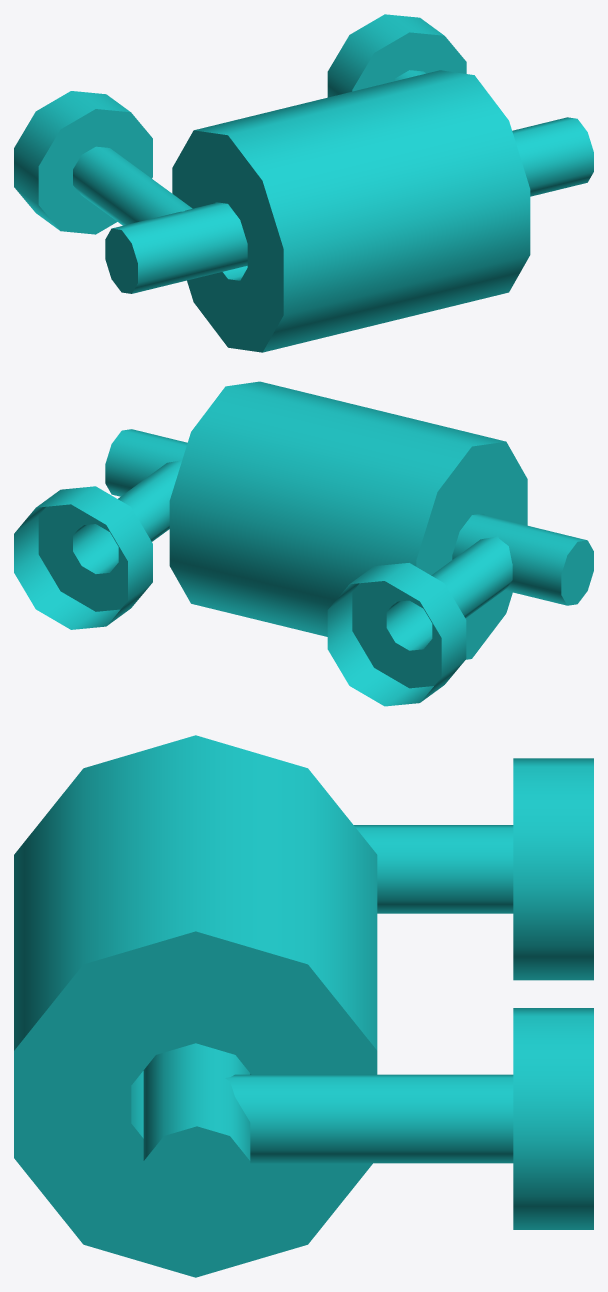
Rendered from papelHiguienico02.fbx.
The picture shows the model from 3 angles, top to bottom: view 1: azimuth 30°, elevation 25°; view 2: azimuth 150°, elevation 25°; view 3: azimuth 270°, elevation 25°; orthographic projection. The views are drawn at different scales.
Visible parts, largest first — view 1: Papel_higeenico_pared; view 2: Papel_higeenico_pared; view 3: Papel_higeenico_pared.
Part boxes in pixels (left/top/right/bottom): Papel_higeenico_pared: left=14, top=14, right=593, bottom=352; Papel_higeenico_pared: left=14, top=381, right=593, bottom=706; Papel_higeenico_pared: left=14, top=735, right=593, bottom=1277.
Size of the model in its own units: 0.2984 by 0.1329 by 0.2016.
